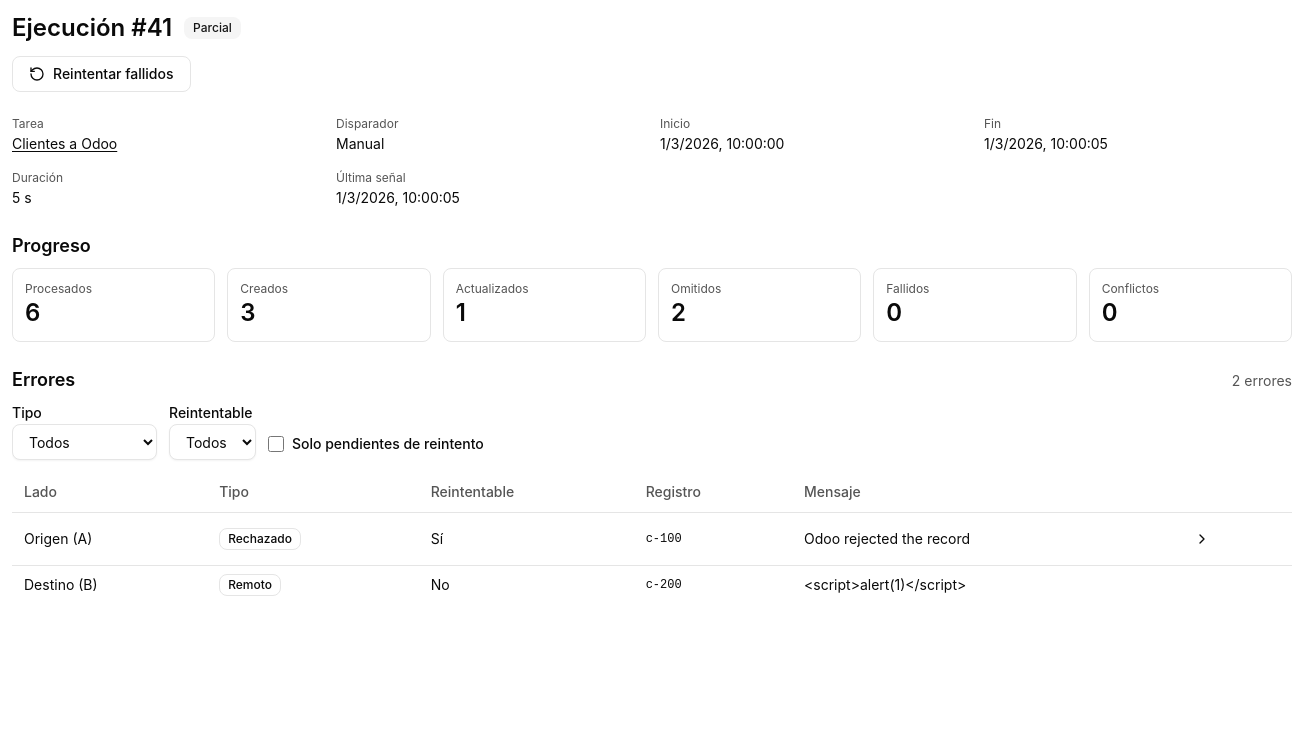
Test case: RunDetailPage errors › asks the server for pending errors only
expect the text "c-200" is shown: met, box [634, 565, 792, 604]
Click the checkbox labelled "Solo pendientes de reintento": point(276, 444) [268, 436, 284, 452]
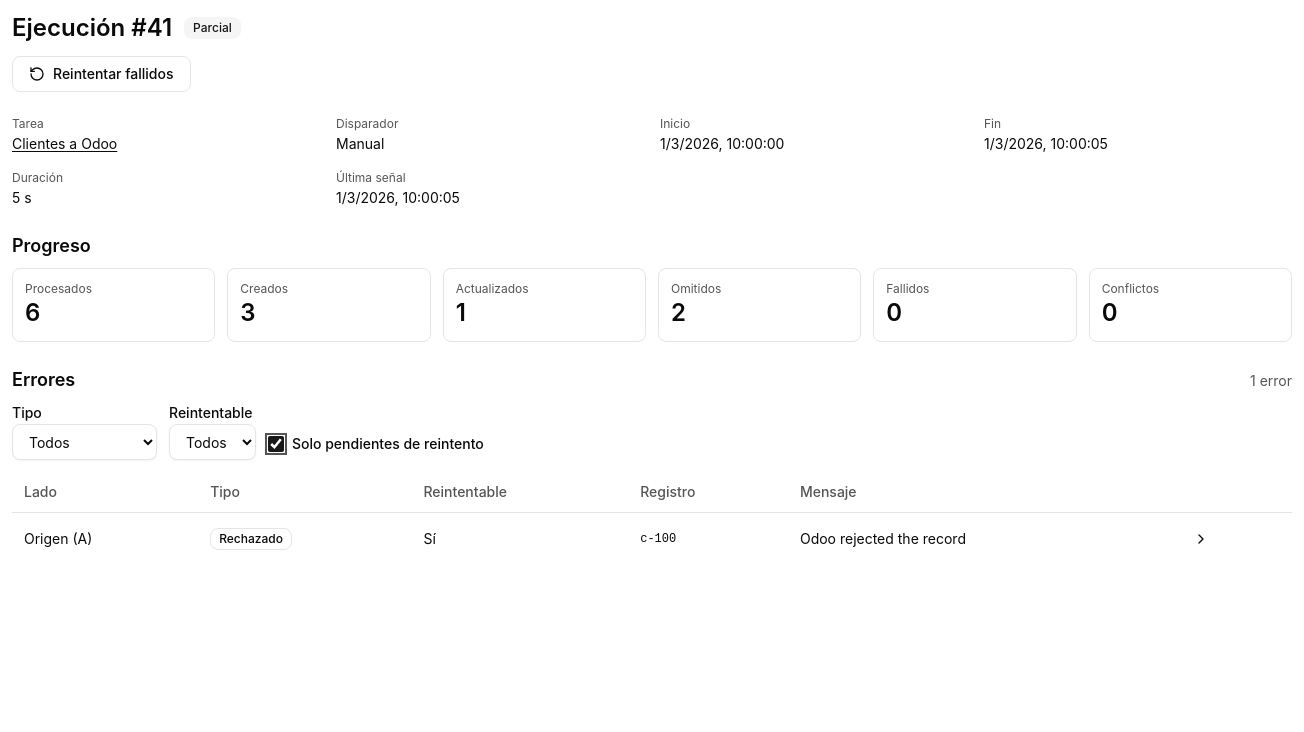
expect the text "c-200" is gone: met
